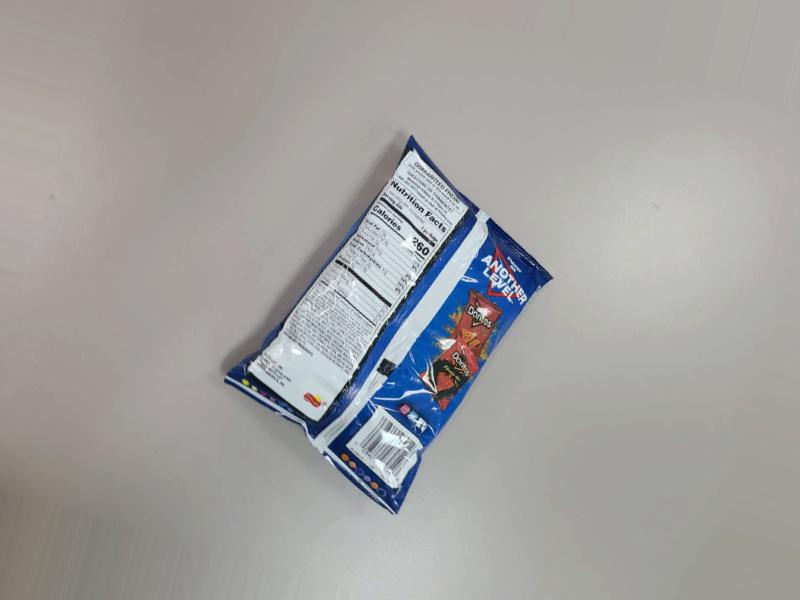doritos: (222, 114, 547, 533)
